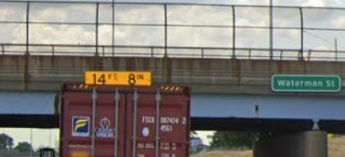1: (89, 72, 98, 84)
4: (96, 72, 108, 86)
8: (125, 71, 136, 85)
overheadsign: (83, 69, 153, 87)
